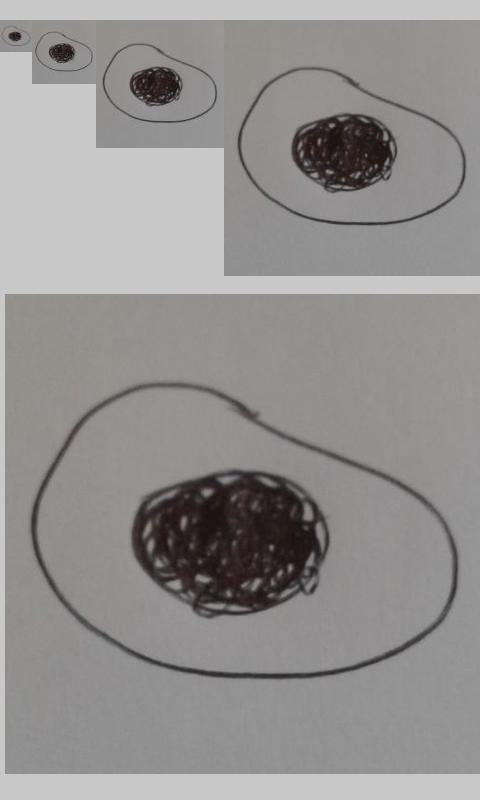radio_button: (26, 379, 460, 681), (234, 64, 469, 229), (101, 42, 219, 124), (34, 31, 94, 72), (1, 24, 31, 47)
